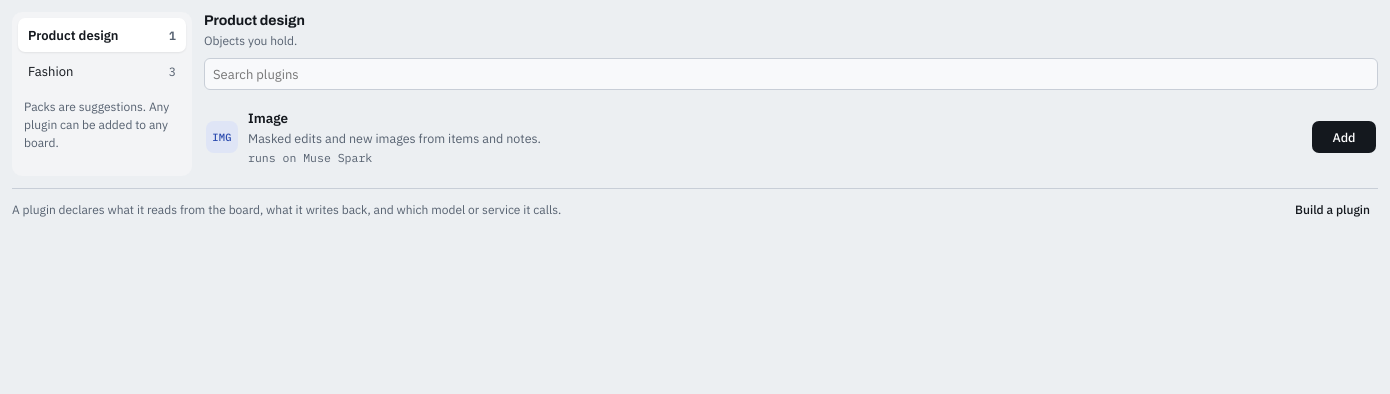
Test: PluginsPanel › switching pack lists its plugins
The image size is (1390, 394).
Step 1. Click the button "Fashion 3" → (102, 71), box [18,54,186,88]
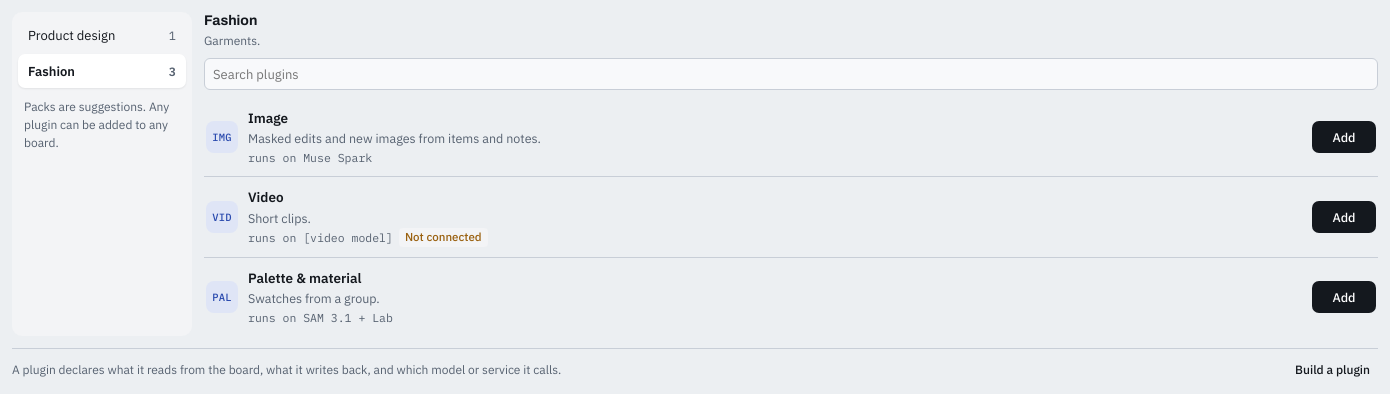
Expected: the text "Garments." is shown, [204,33,260,48]
